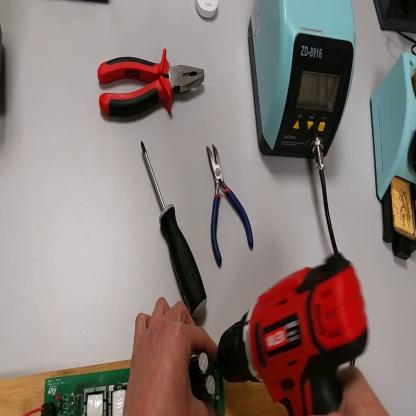electric screwdriver: (219, 251, 373, 416)
hand: (124, 292, 221, 412), (333, 371, 390, 415)
high voltage board: (22, 352, 226, 416)
pliers: (97, 50, 207, 121), (204, 138, 255, 270)
screwdriver-: (141, 140, 209, 318)
socket: (373, 3, 416, 28)
welder base: (371, 43, 416, 266)
welder station: (251, 2, 357, 162)
working area: (2, 360, 289, 416)
